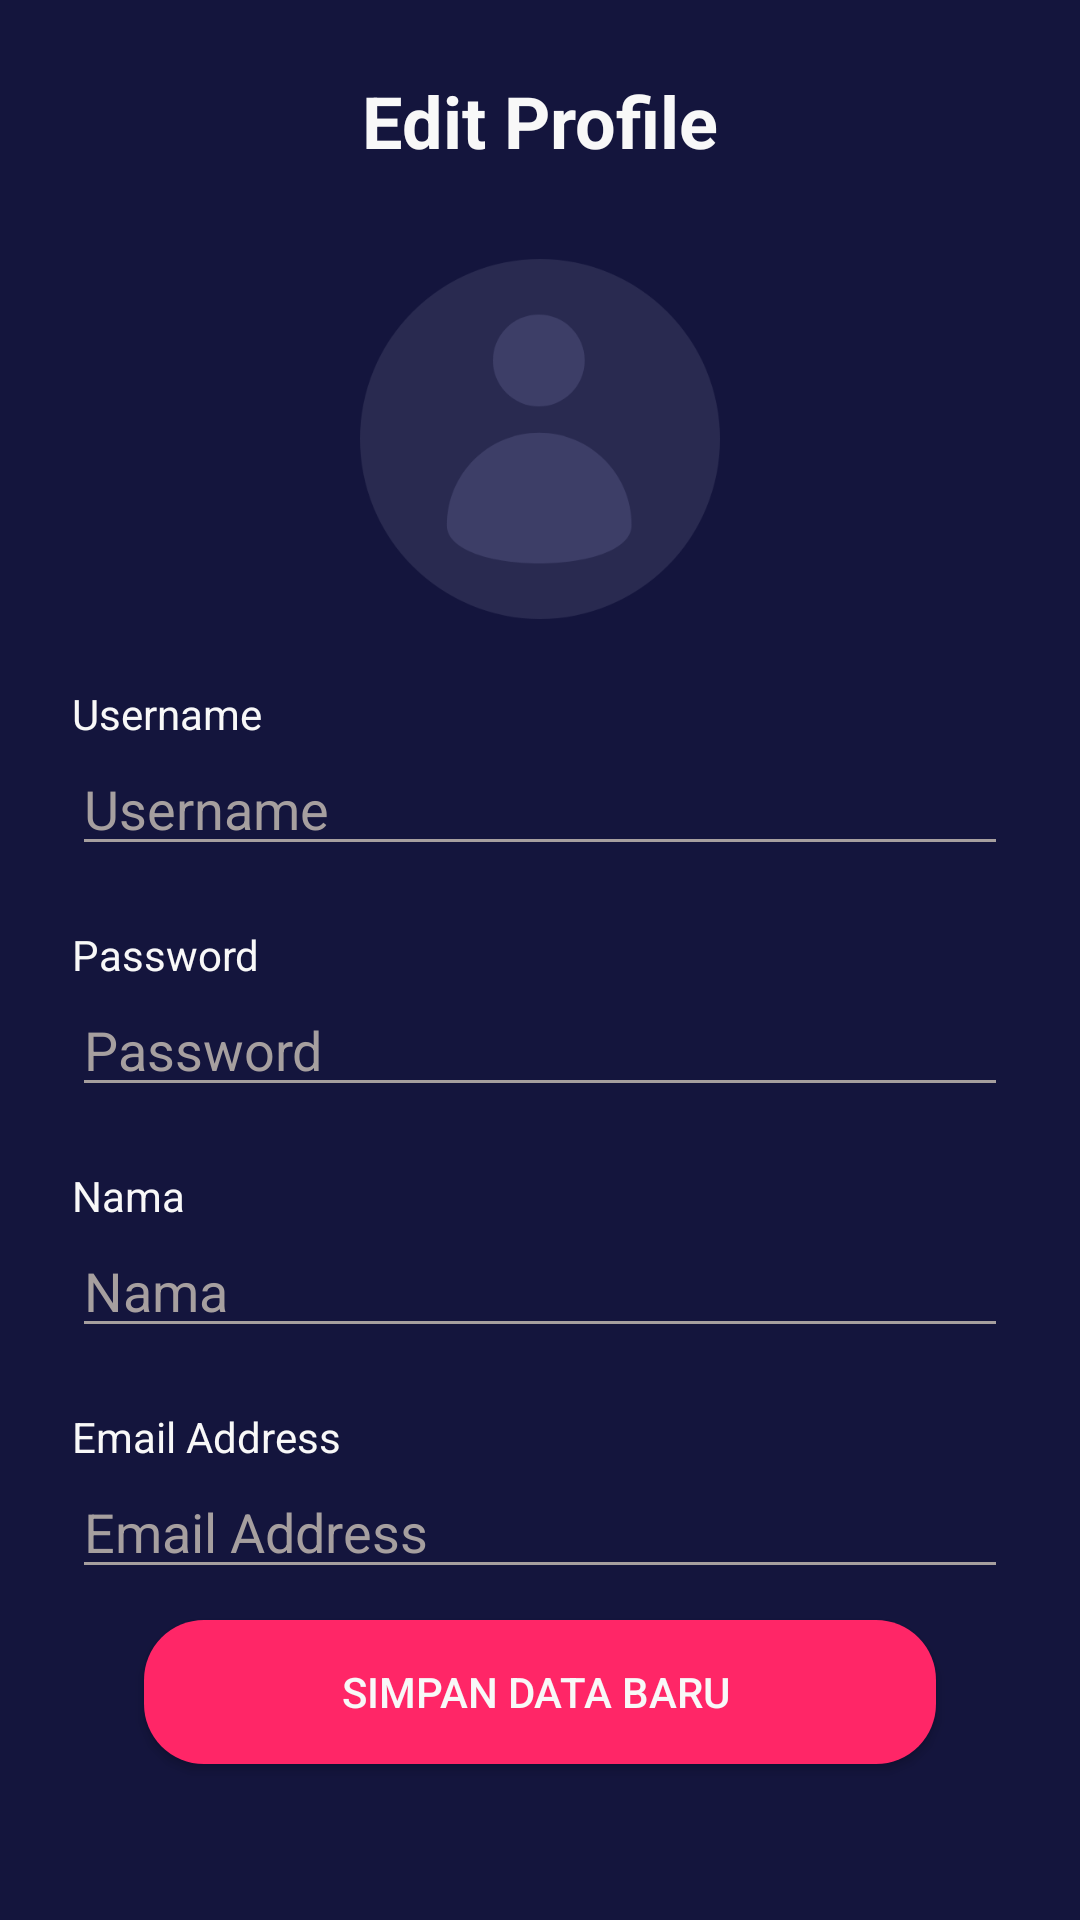

Where to tap for icons on this 1080px×1920px app screen, as [x,y]:
user pic: [539,439]
